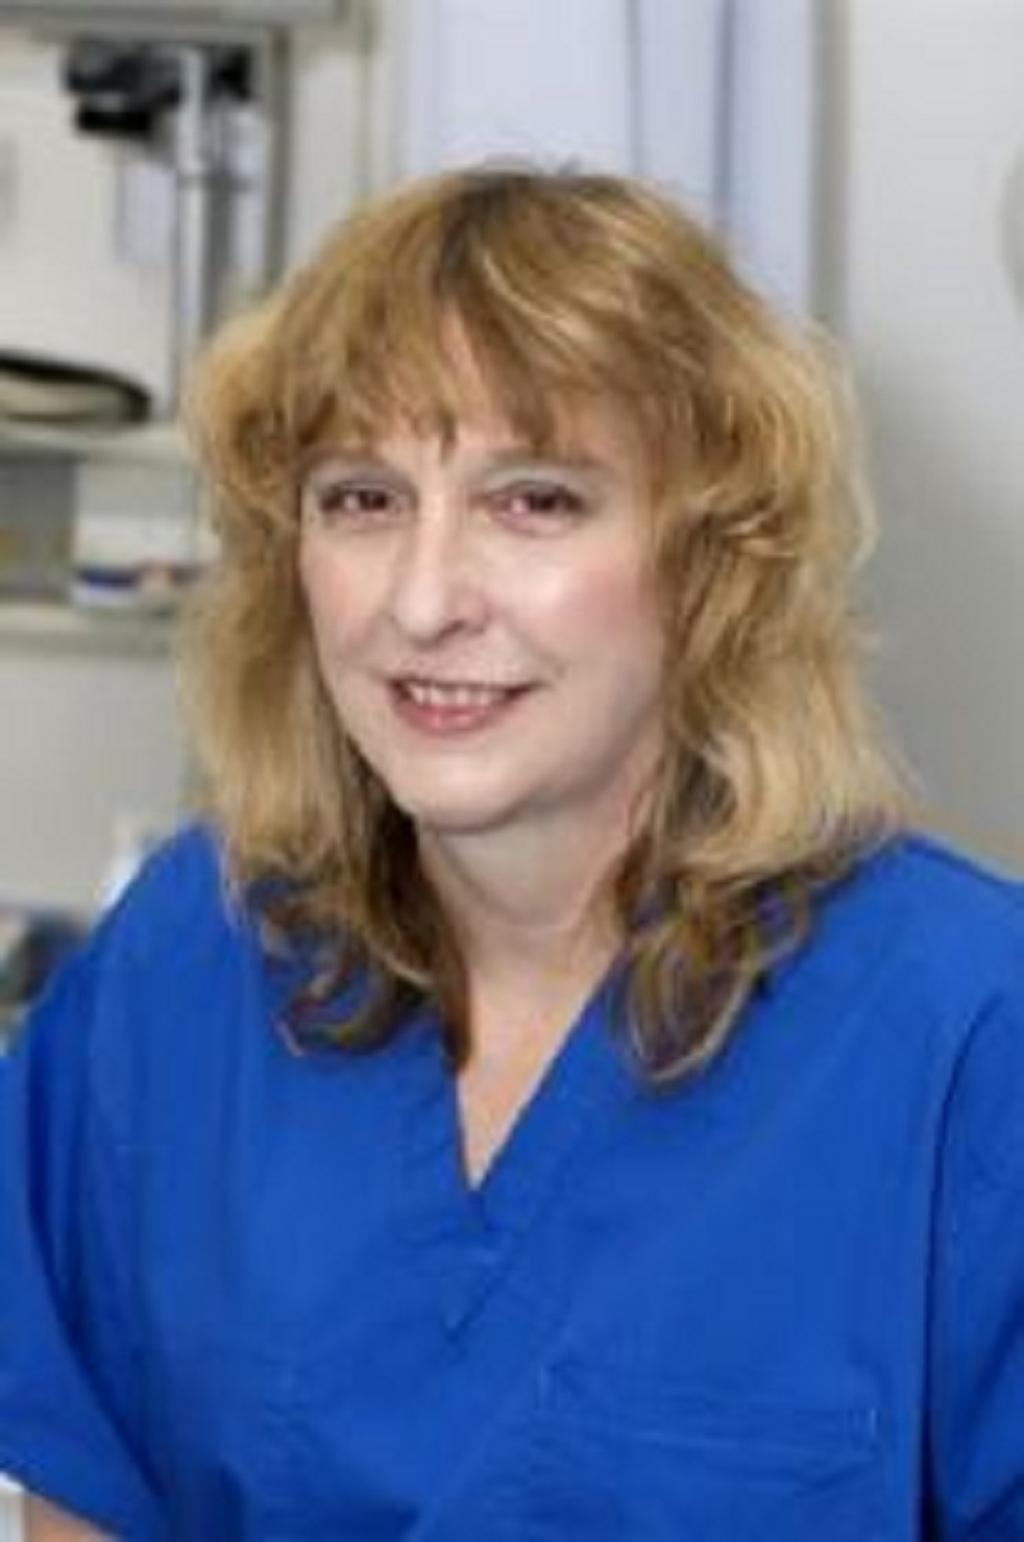face: (307, 340, 680, 828)
